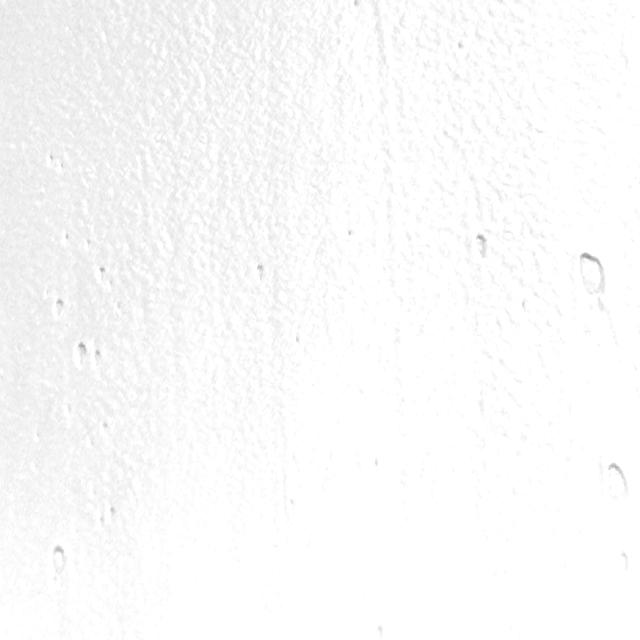pin holes: (573, 247, 610, 298), (598, 461, 634, 510), (44, 546, 72, 595), (614, 548, 634, 578), (470, 232, 490, 261), (69, 342, 89, 369), (48, 297, 66, 323), (249, 260, 267, 285), (282, 494, 299, 518), (102, 503, 118, 528), (43, 154, 61, 176), (367, 455, 385, 477), (88, 348, 103, 373), (92, 264, 108, 286), (369, 621, 385, 640), (60, 402, 73, 421), (96, 420, 110, 437), (53, 160, 66, 175), (81, 237, 93, 253), (341, 227, 354, 241), (59, 231, 70, 247), (348, 0, 362, 12)
